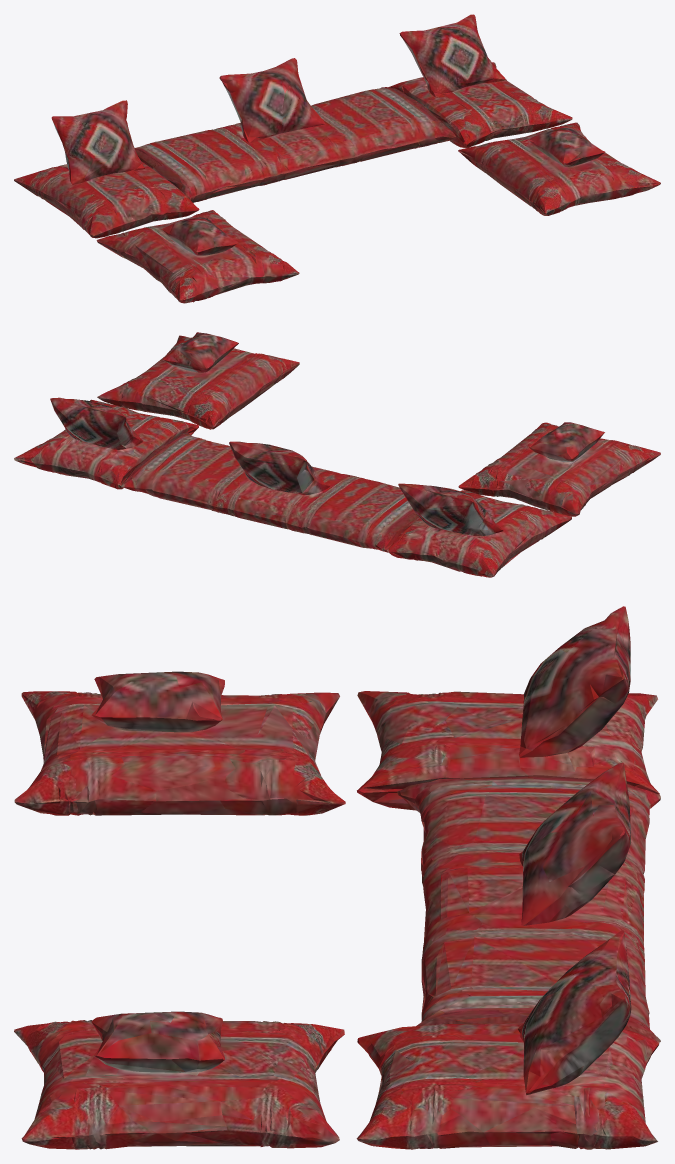
Rendered from majlis.glb.
3 renders of one model, top to bottom at view 1: azimuth 30°, elevation 25°; view 2: azimuth 150°, elevation 25°; view 3: azimuth 270°, elevation 25°, orthographic. The views are drawn at different scales.
Size of the model in its own units: 1.9 by 0.2794 by 1.16.
Materials: 1 (1 with a texture image).
